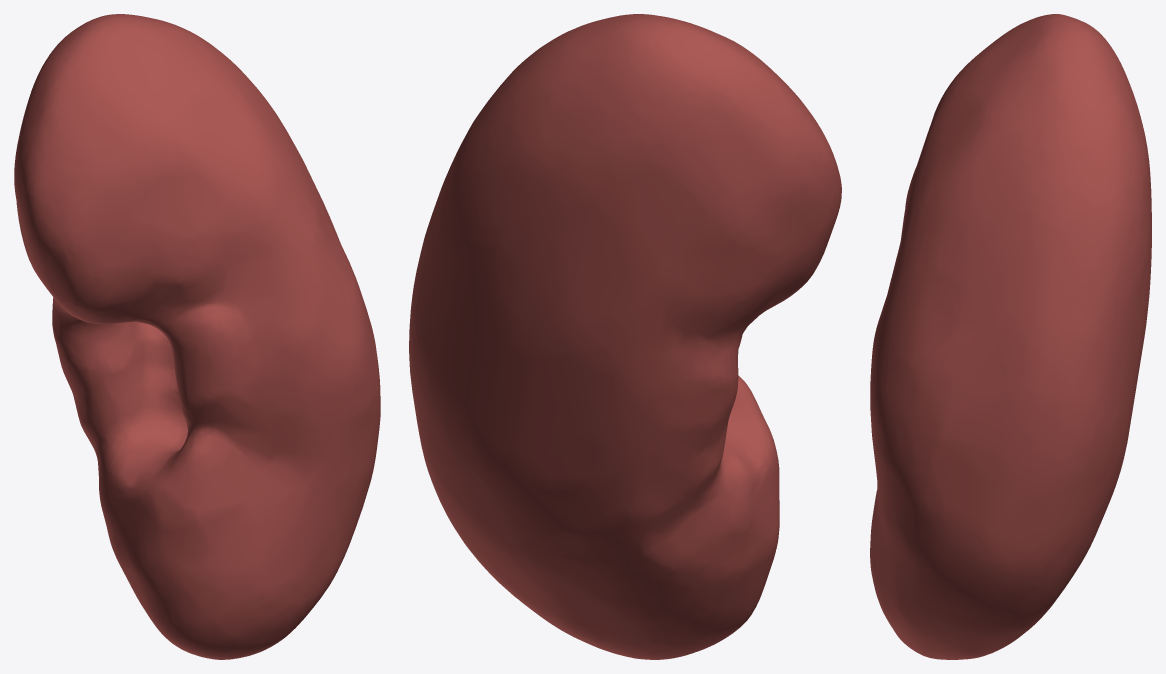
The model's file is FMA7205.glb.
3 renders of one model, left to right at view 1: azimuth 30°, elevation 25°; view 2: azimuth 150°, elevation 25°; view 3: azimuth 270°, elevation 25°, orthographic. The views are drawn at different scales.
Parts seen in each view (by area): view 1: FMA7205; view 2: FMA7205; view 3: FMA7205.
Part boxes in pixels (x1,y1,x2,y2): FMA7205: [14, 14, 380, 659]; FMA7205: [409, 14, 841, 659]; FMA7205: [870, 14, 1151, 659].
Bounding box in the file's own units: 0.0606 × 0.103 × 0.0441.
